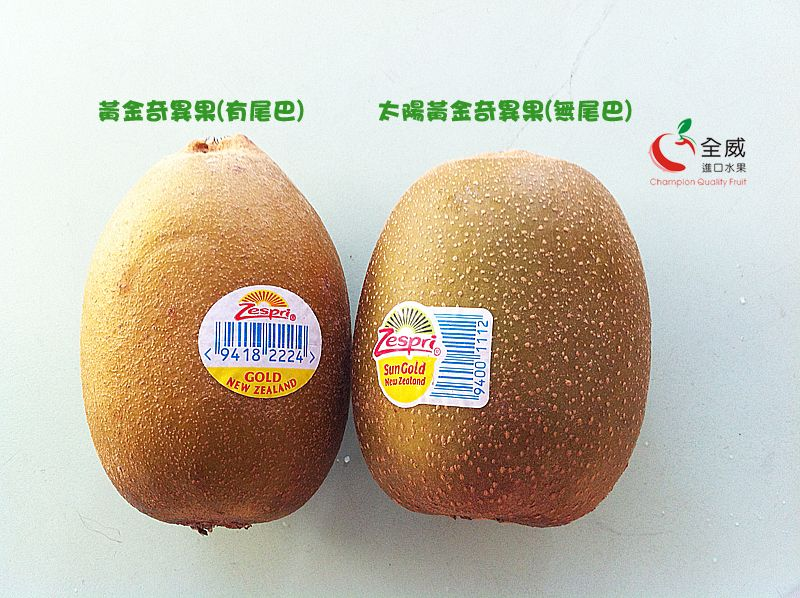kiwi: (352, 152, 650, 527), (79, 133, 351, 528)
